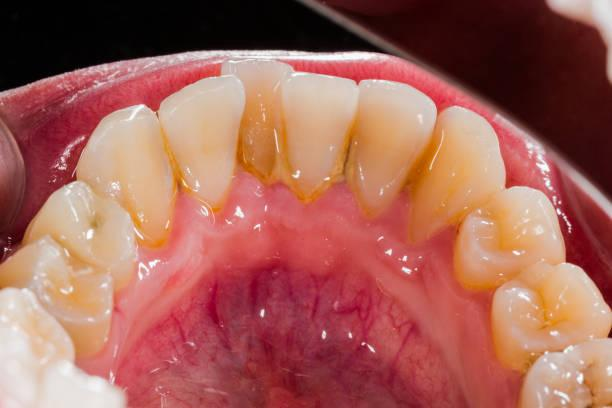Calculus: (289, 67, 362, 201), (219, 56, 297, 180), (353, 102, 423, 216)
